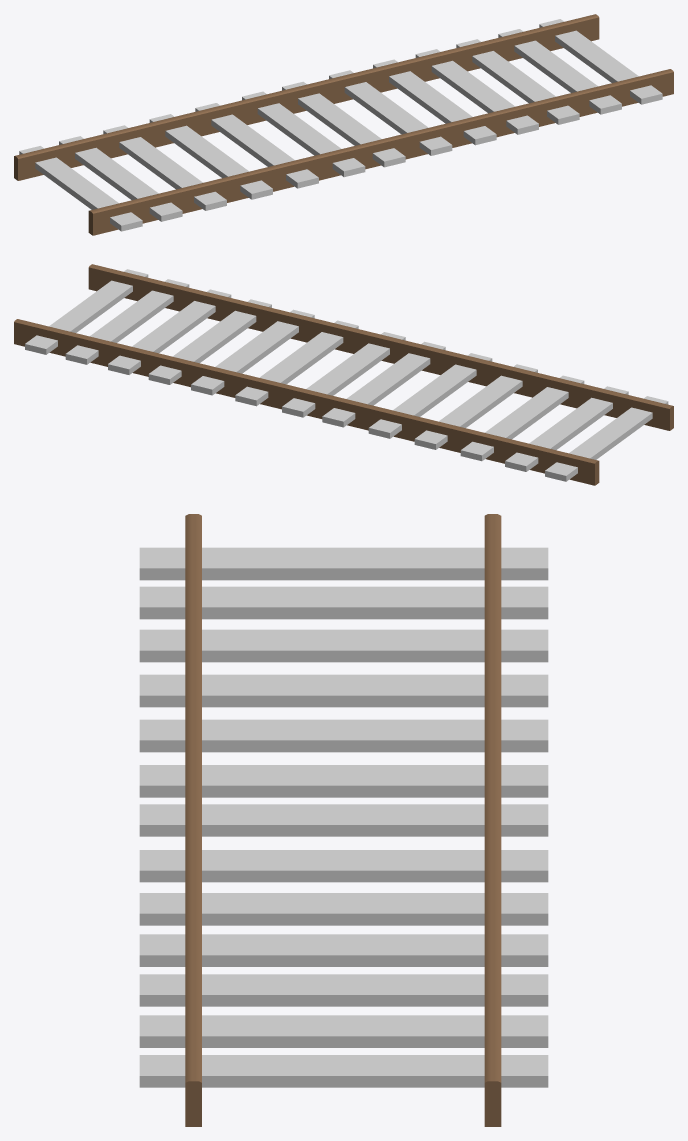
File: Train Tracks.fbx
3 renders of one model, top to bottom at view 1: azimuth 30°, elevation 25°; view 2: azimuth 150°, elevation 25°; view 3: azimuth 270°, elevation 25°, orthographic. The views are drawn at different scales.
Parts seen in each view (by area): view 1: pCube34; view 2: pCube34; view 3: pCube34.
Part boxes in pixels (x1,y1,x2,y2): pCube34: (14,14,673,235); pCube34: (14,264,673,485); pCube34: (139,514,548,1126).
Bounding box in the file's own units: 12.9 × 0.484 × 3.93.
